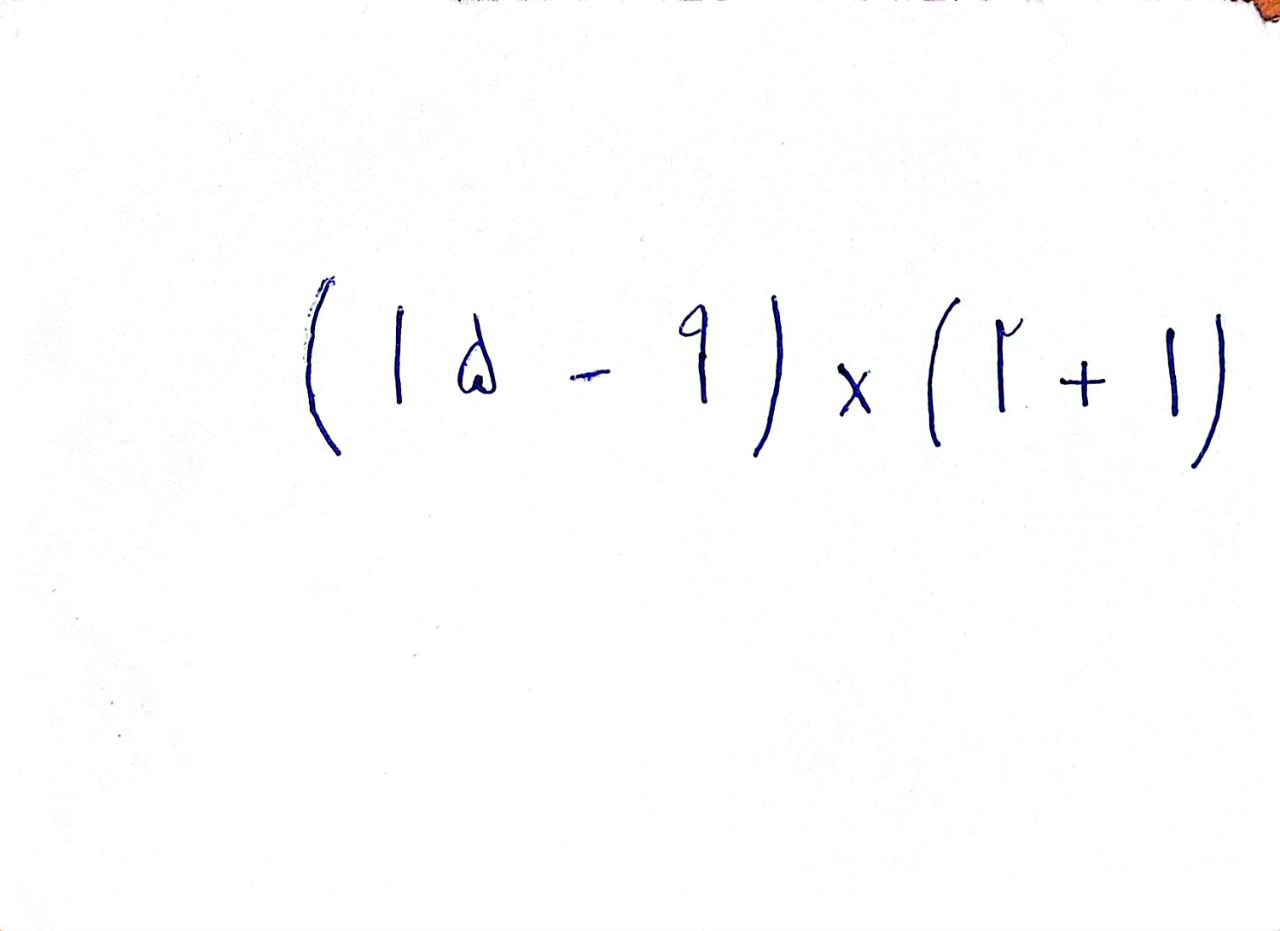character: (298, 270, 352, 461), (1191, 309, 1229, 473), (751, 293, 785, 461), (924, 296, 961, 450), (673, 304, 718, 405), (451, 311, 501, 395), (992, 311, 1024, 415), (1058, 359, 1108, 410), (1163, 326, 1186, 422), (835, 364, 873, 420), (392, 303, 408, 415), (564, 365, 612, 387)
